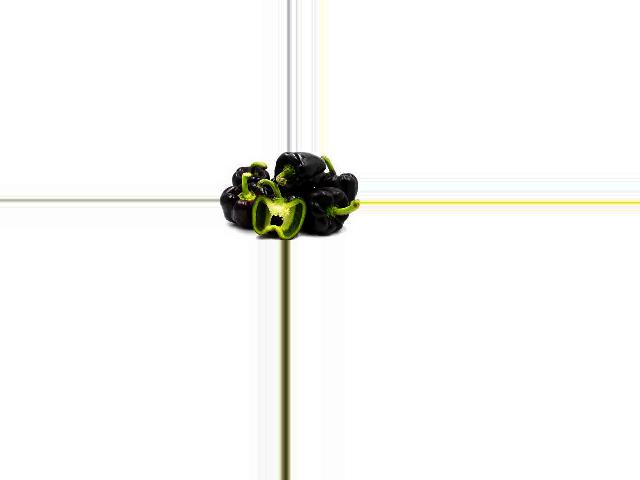bell_pepper: (221, 182, 277, 225)
